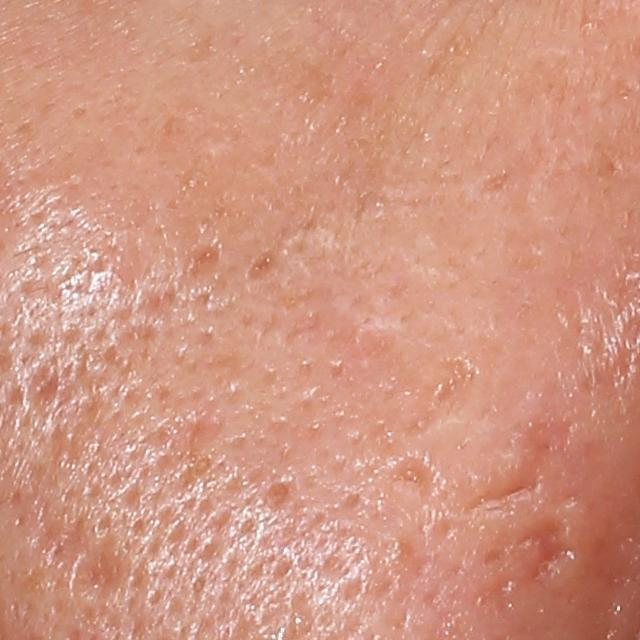atrophic_scar: (403, 355, 473, 443), (456, 471, 552, 520), (513, 513, 569, 584), (67, 540, 127, 606), (178, 407, 232, 457), (386, 451, 435, 497), (23, 362, 64, 414), (183, 241, 227, 284), (237, 247, 284, 285), (258, 475, 290, 514)
